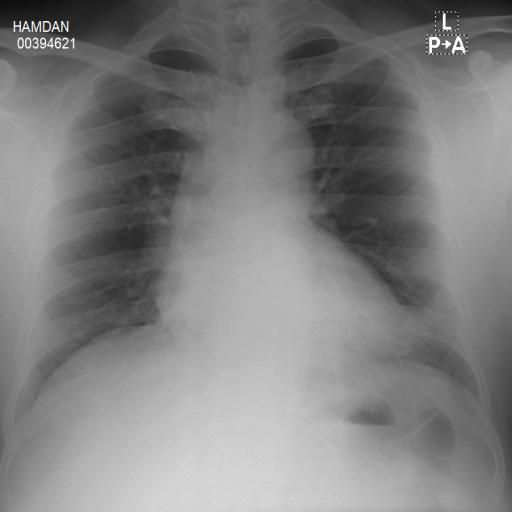kardiomegali: (16, 21, 501, 439)
